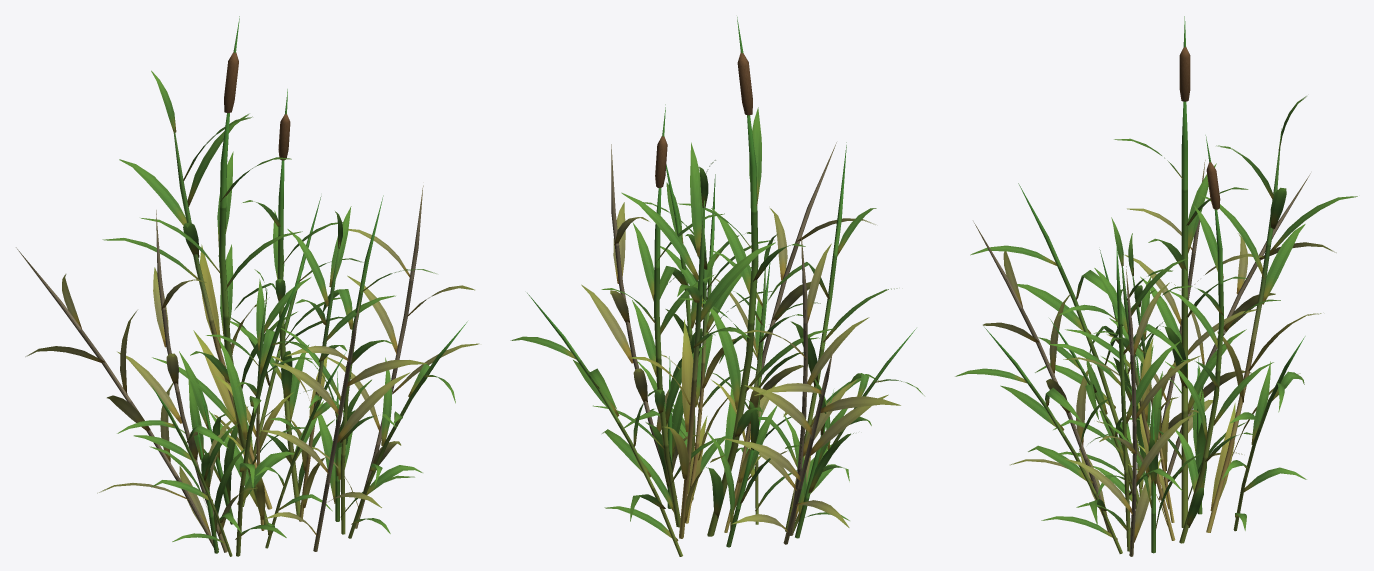
File: reed_group.FBX
The picture shows the model from 3 angles, left to right: view 1: azimuth 30°, elevation 25°; view 2: azimuth 150°, elevation 25°; view 3: azimuth 270°, elevation 25°; orthographic projection. The views are drawn at different scales.
Parts seen in each view (by area): view 1: reed_group; view 2: reed_group; view 3: reed_group.
Boxes of the visible parts, <box> form: reed_group: <box>16,16,479,556</box>; reed_group: <box>510,17,924,556</box>; reed_group: <box>955,16,1357,556</box>.
Bounding box in the file's own units: 140 × 180 × 131.
1 material, 1 textured.
